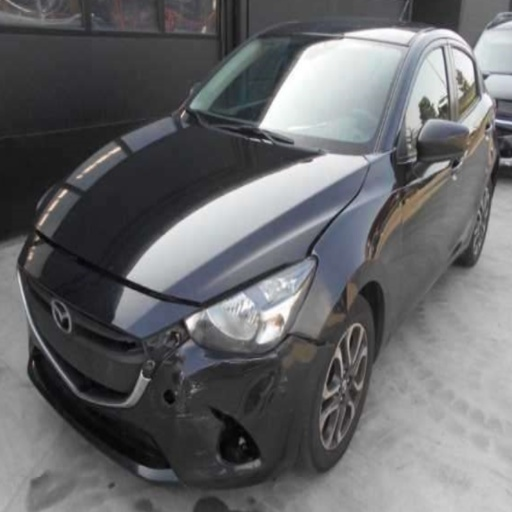dent: (175, 357, 279, 451)
rust: (282, 341, 317, 370)
scratch: (213, 450, 231, 480), (176, 367, 187, 411), (233, 460, 262, 472), (188, 381, 208, 398), (174, 412, 210, 421)
